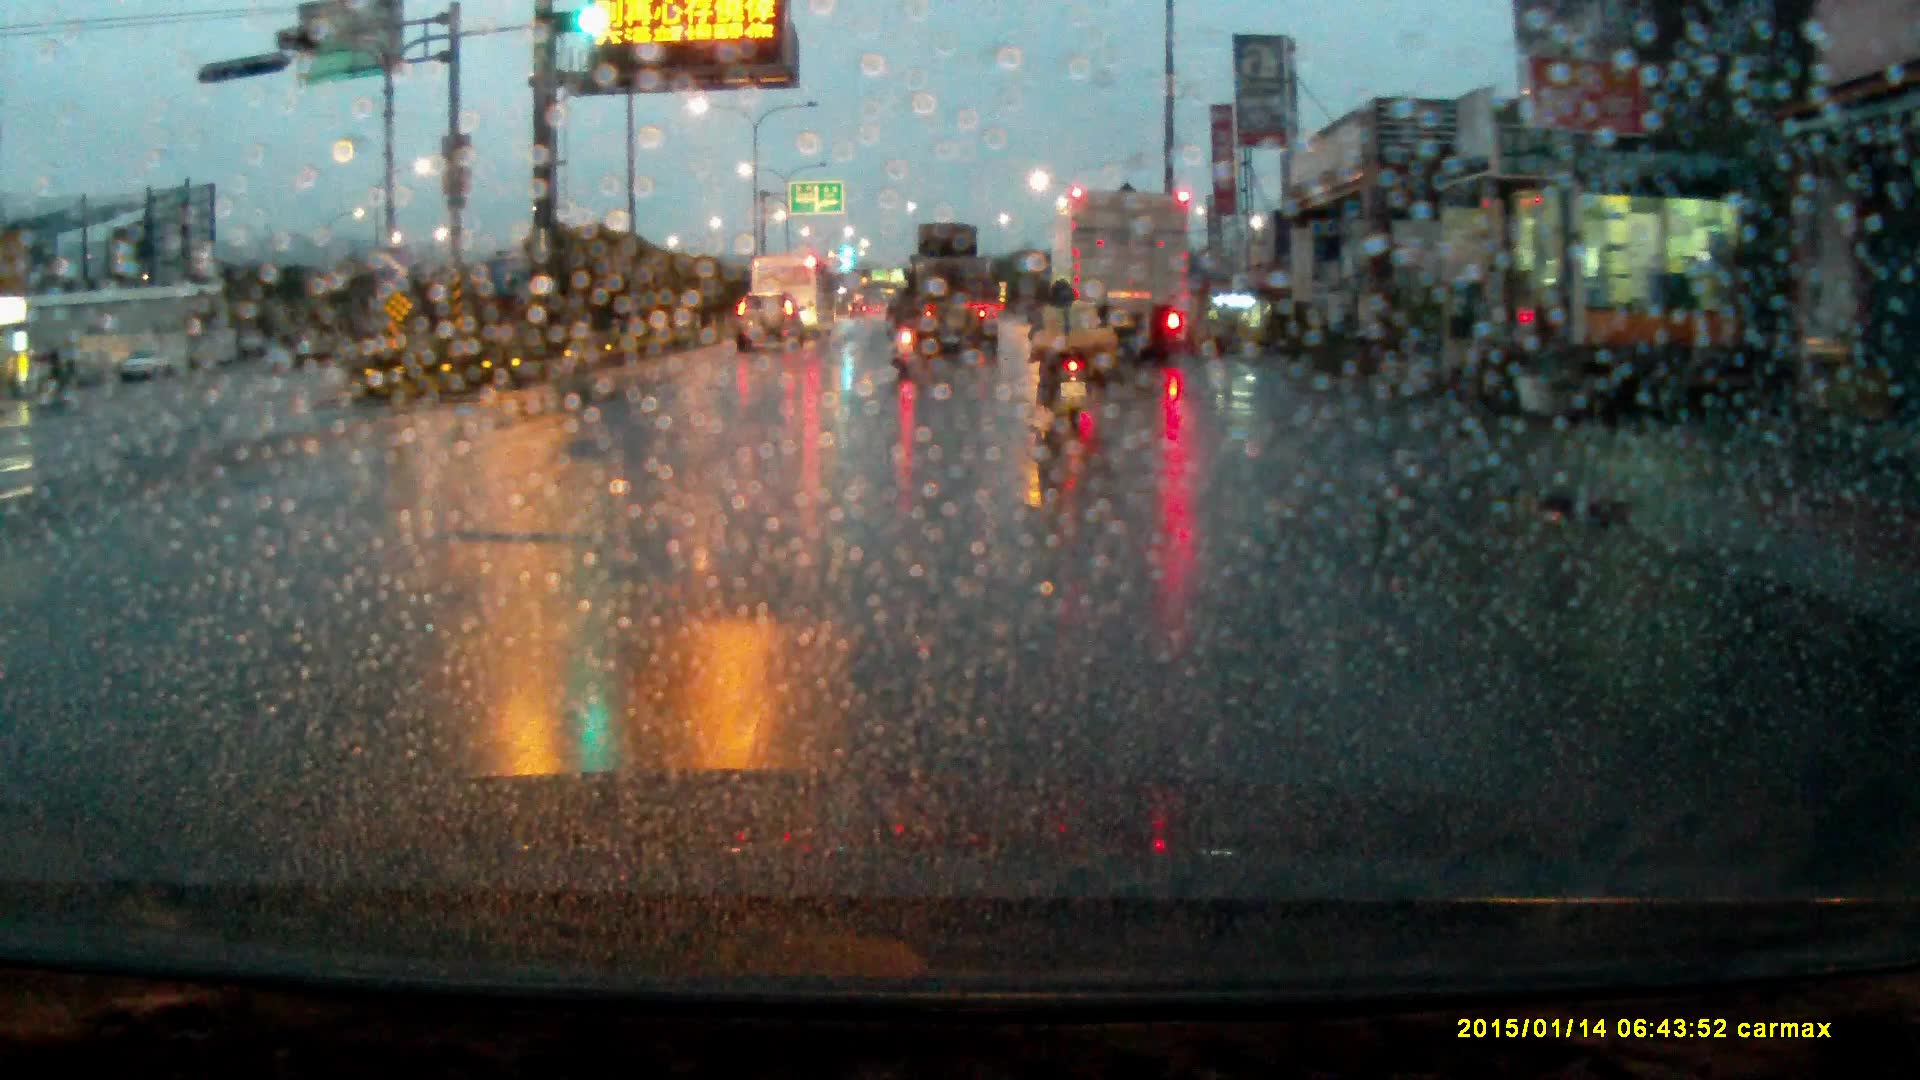rider: (1027, 267, 1108, 429), (890, 268, 929, 366)
vehicle: (1051, 190, 1196, 362), (899, 218, 1000, 356), (765, 244, 840, 327), (737, 285, 808, 351)
